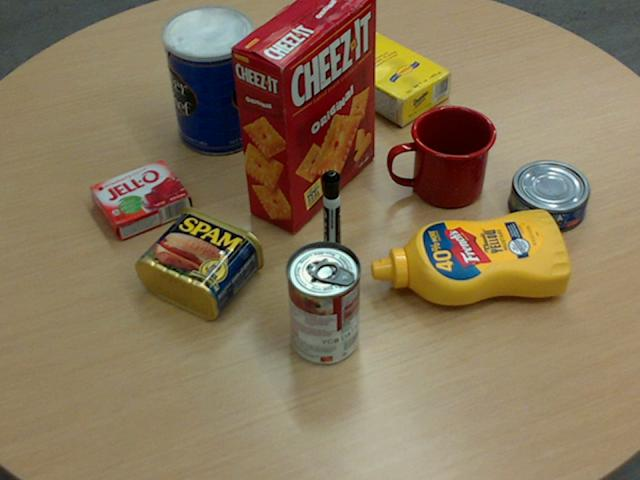cracker_box: (229, 0, 376, 232)
gelatin_box: (89, 157, 190, 239)
large_marker: (321, 171, 342, 265)
master_chef_can: (162, 5, 260, 155)
mug: (388, 104, 496, 207)
mustard_bottle: (370, 209, 570, 305)
potted_meat_can: (134, 205, 263, 318)
sugar_box: (303, 18, 451, 125)
tomato_soup_can: (284, 240, 359, 364)
tuna_fish_can: (507, 159, 588, 232)
